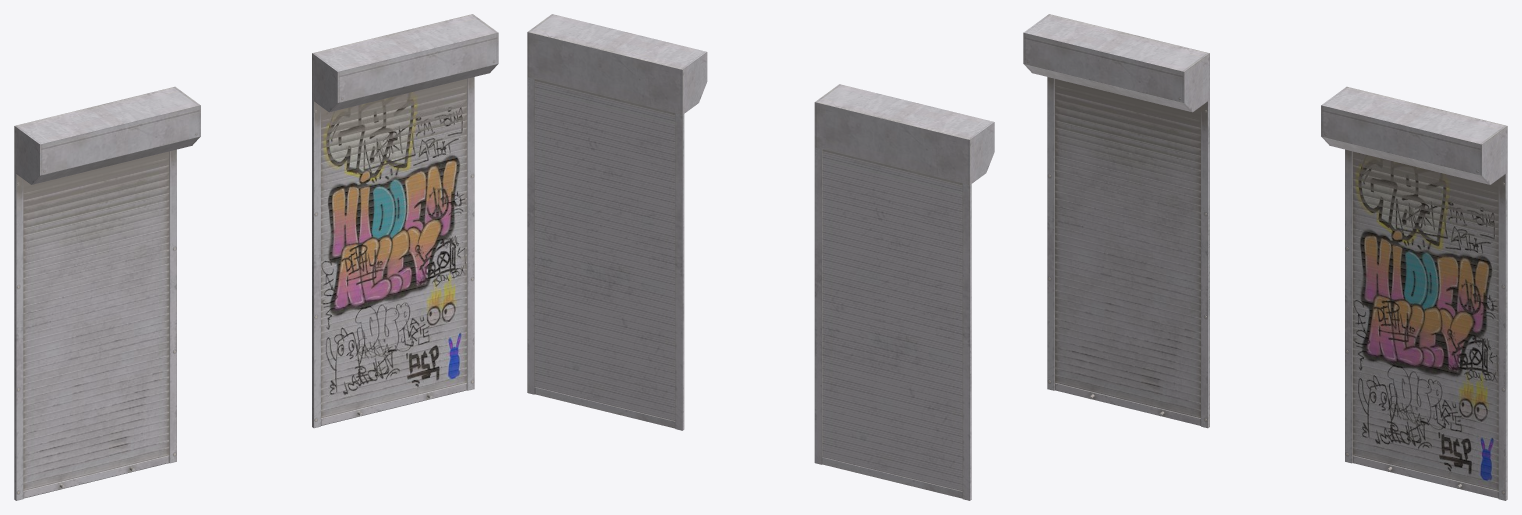
File: rollershutter_door.glb
3 views of the same model, side by side, from view 1: azimuth 30°, elevation 25°; view 2: azimuth 150°, elevation 25°; view 3: azimuth 330°, elevation 25° (orthographic). The views are drawn at different scales.
Visible parts, largest first — view 1: rollershutter_door, rollershutter_door_graffiti; view 2: rollershutter_door, rollershutter_door_graffiti; view 3: rollershutter_door_graffiti, rollershutter_door.
Boxes of the visible parts, x1=… form: rollershutter_door: x1=14, y1=86, x2=200, y2=500; rollershutter_door_graffiti: x1=312, y1=14, x2=498, y2=428; rollershutter_door: x1=814, y1=84, x2=994, y2=500; rollershutter_door_graffiti: x1=527, y1=14, x2=707, y2=430; rollershutter_door_graffiti: x1=1321, y1=86, x2=1507, y2=500; rollershutter_door: x1=1023, y1=14, x2=1209, y2=428.
Size of the model in its own units: 3.08 by 2.4 by 0.3.
2 materials, 2 textured.
